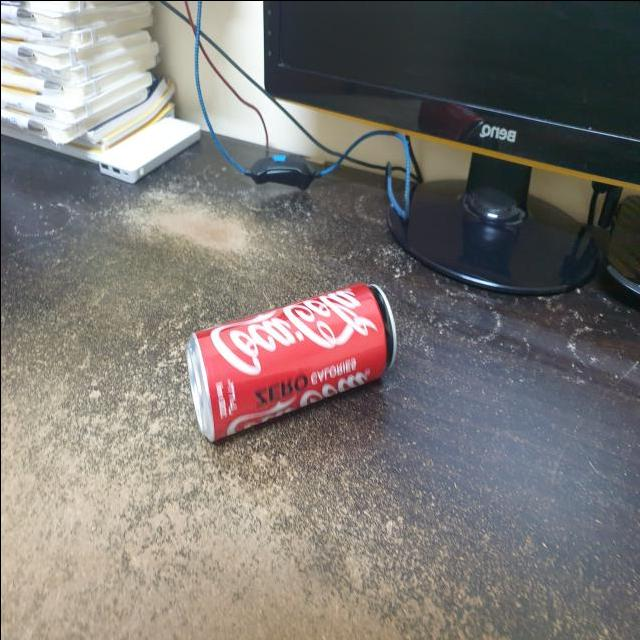can: (184, 276, 394, 444)
